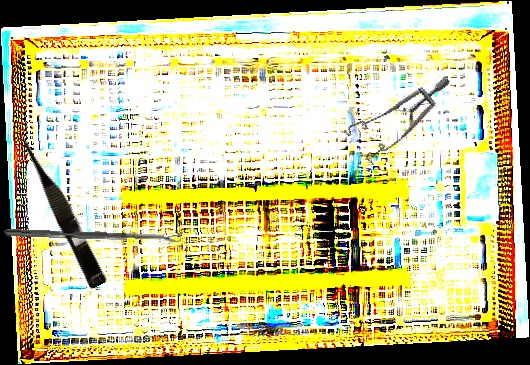Micro Scissor: (14, 129, 112, 290)
Speculum: (335, 46, 452, 181)
Surgical Spoon: (3, 228, 182, 244)
